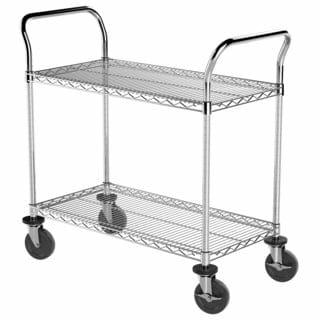Carts: (20, 5, 297, 315)
